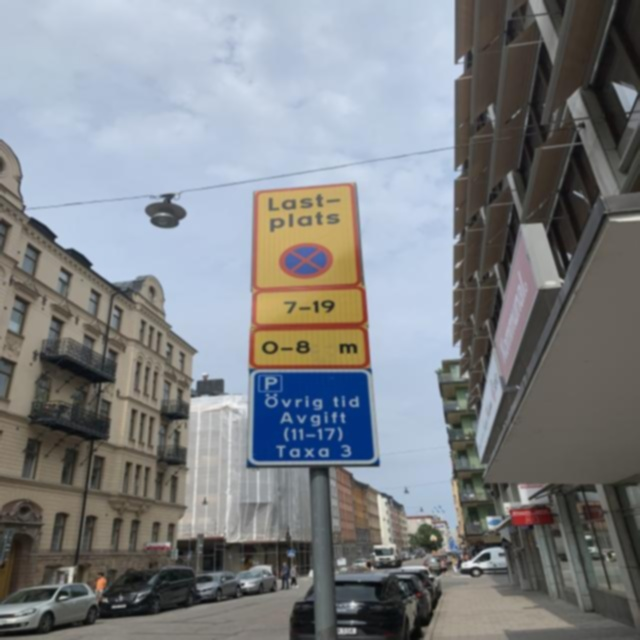lastplats: (250, 178, 366, 291)
